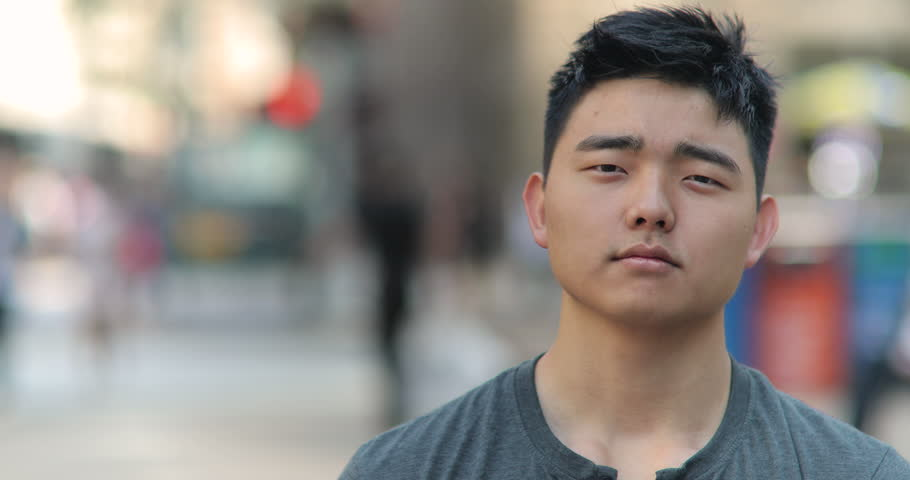bare: (542, 190, 758, 326)
